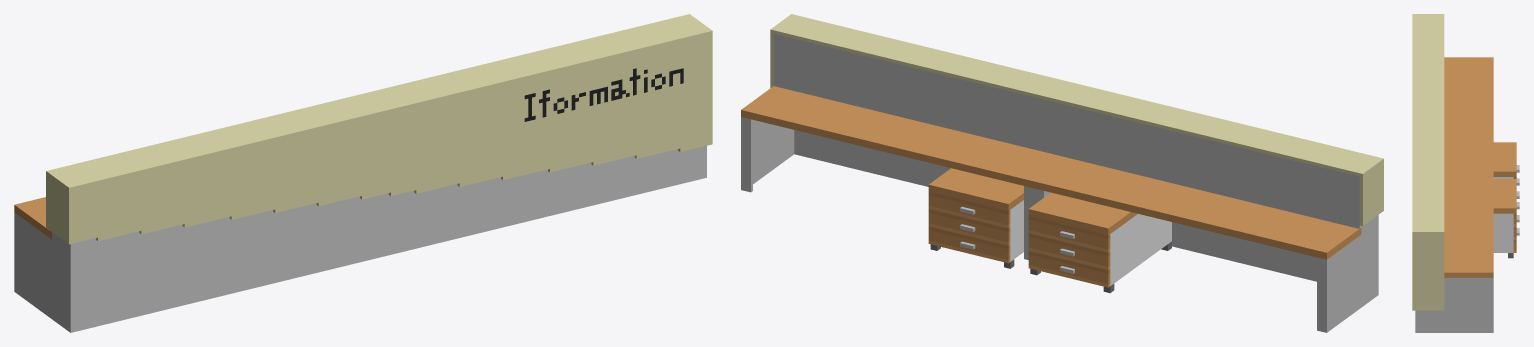
Rendered from Desk6-1.fbx.
3 renders of one model, left to right at view 1: azimuth 30°, elevation 25°; view 2: azimuth 150°, elevation 25°; view 3: azimuth 270°, elevation 25°, orthographic. The views are drawn at different scales.
Visible parts, largest first — view 1: Desk6-1.000, Desk6-1.005; view 2: Desk6-1.000, Desk6-1.005; view 3: Desk6-1.005, Desk6-1.000.
Boxes of the visible parts, bbox=[...] form: Desk6-1.000: bbox=[14, 92, 390, 332]; Desk6-1.005: bbox=[368, 14, 712, 255]; Desk6-1.000: bbox=[1028, 86, 1383, 332]; Desk6-1.005: bbox=[741, 14, 1087, 268]; Desk6-1.005: bbox=[1412, 123, 1519, 332]; Desk6-1.000: bbox=[1412, 14, 1519, 198].
Bounding box in the file's own units: 17.8 × 3.9 × 3.7.
